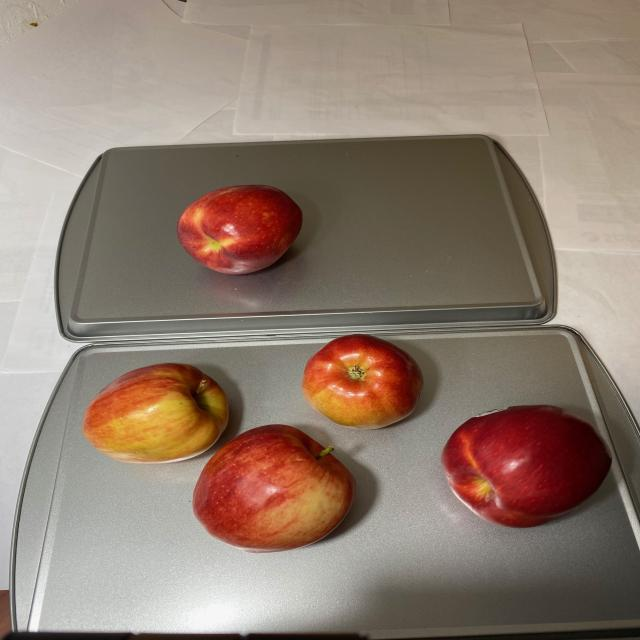apple: (78, 338, 619, 553), (170, 182, 308, 277)
